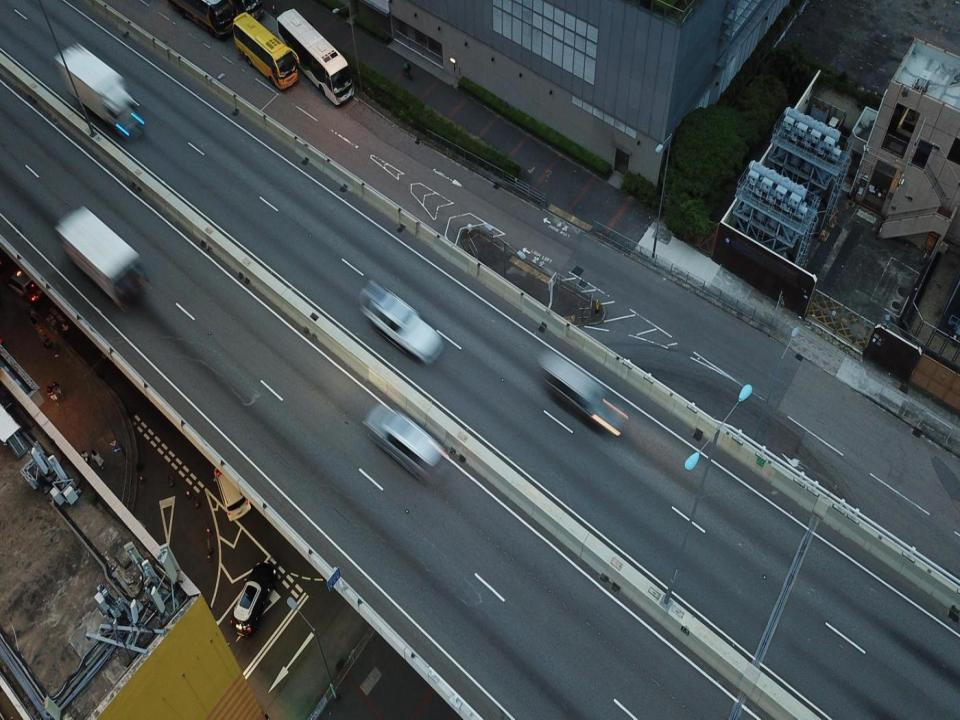bus: (54, 203, 150, 306), (276, 7, 356, 105), (232, 11, 300, 91), (168, 0, 239, 46)
car: (352, 278, 445, 366), (533, 348, 627, 434), (361, 402, 448, 486), (227, 560, 280, 640), (212, 462, 252, 523), (8, 265, 42, 302)
truck: (49, 39, 150, 137)
